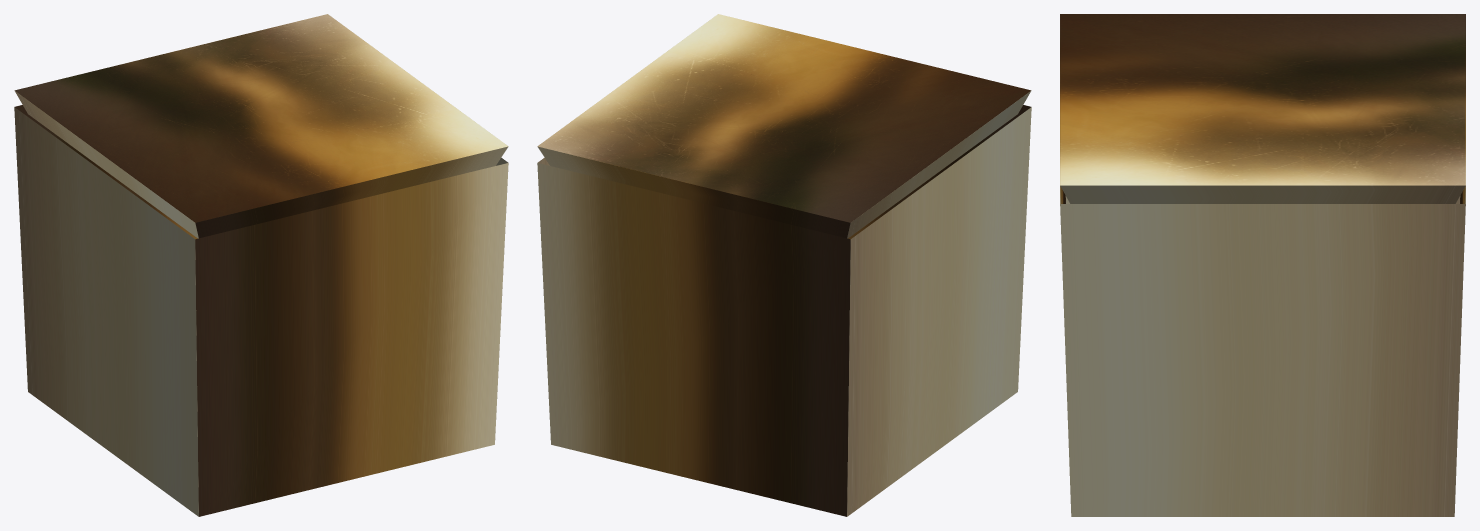
Rendered from Boxchip.fbx.
3 views of the same model, side by side, from view 1: azimuth 30°, elevation 25°; view 2: azimuth 150°, elevation 25°; view 3: azimuth 270°, elevation 25° (orthographic). The views are drawn at different scales.
Parts seen in each view (by area): view 1: boxbottom, Boxcover; view 2: boxbottom, Boxcover; view 3: boxbottom, Boxcover.
Boxes of the visible parts, box(x1,y1,x2,y2) form: boxbottom: box(14, 105, 508, 516); Boxcover: box(14, 14, 508, 238); boxbottom: box(537, 105, 1031, 516); Boxcover: box(537, 14, 1031, 238); boxbottom: box(1060, 186, 1465, 516); Boxcover: box(1060, 14, 1465, 203).
Size of the model in its own units: 77.15 by 70.52 by 77.13.
